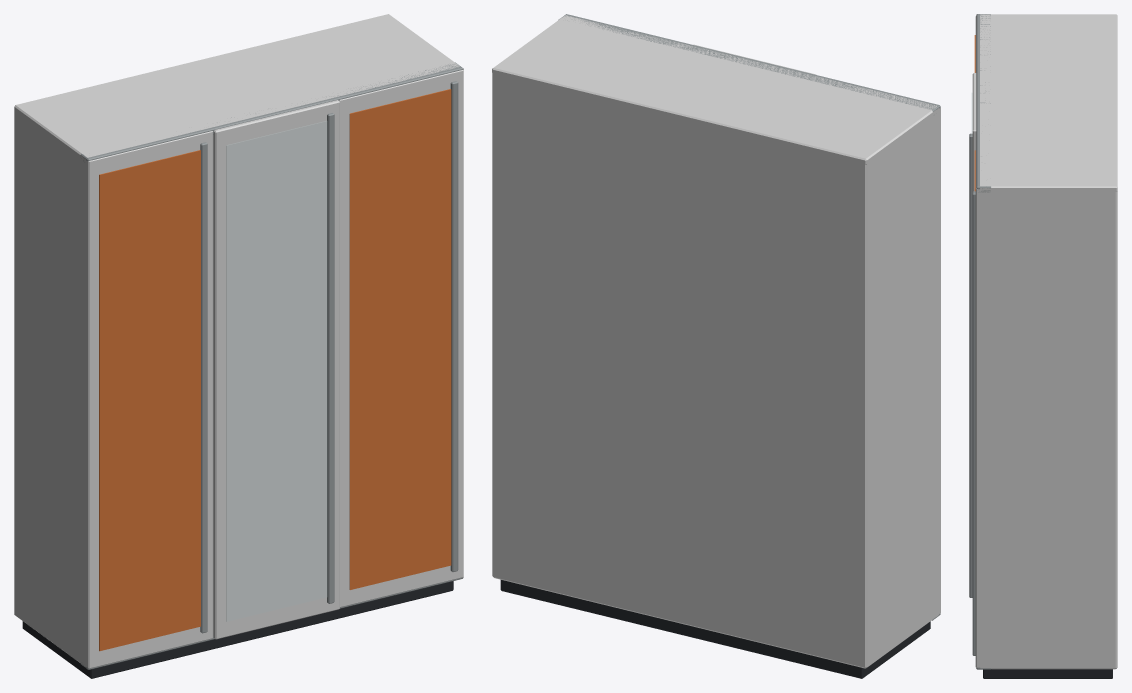
File: wardrobe-sliding-1800.glb
3 renders of one model, left to right at view 1: azimuth 30°, elevation 25°; view 2: azimuth 150°, elevation 25°; view 3: azimuth 270°, elevation 25°, orthographic. The views are drawn at different scales.
Visible parts, largest first — view 1: wardrobe-sliding-1800.tint, wardrobe-sliding-1800.accent, wardrobe-sliding-1800.glass, wardrobe-sliding-1800.metal, wardrobe-sliding-1800.graphite; view 2: wardrobe-sliding-1800.tint, wardrobe-sliding-1800.graphite, wardrobe-sliding-1800.metal; view 3: wardrobe-sliding-1800.tint, wardrobe-sliding-1800.metal, wardrobe-sliding-1800.graphite.
Part boxes in pixels (<box>): wardrobe-sliding-1800.tint: <box>14,14,463,668</box>; wardrobe-sliding-1800.accent: <box>99,89,451,651</box>; wardrobe-sliding-1800.glass: <box>226,121,327,621</box>; wardrobe-sliding-1800.metal: <box>80,62,463,669</box>; wardrobe-sliding-1800.graphite: <box>22,581,453,678</box>; wardrobe-sliding-1800.tint: <box>492,15,940,668</box>; wardrobe-sliding-1800.graphite: <box>500,580,930,678</box>; wardrobe-sliding-1800.metal: <box>558,14,940,620</box>; wardrobe-sliding-1800.tint: <box>972,14,1117,669</box>; wardrobe-sliding-1800.metal: <box>969,14,991,669</box>; wardrobe-sliding-1800.graphite: <box>983,669,1112,678</box>.
Bounding box in the file's own units: 1.8 × 2.4 × 0.65.
